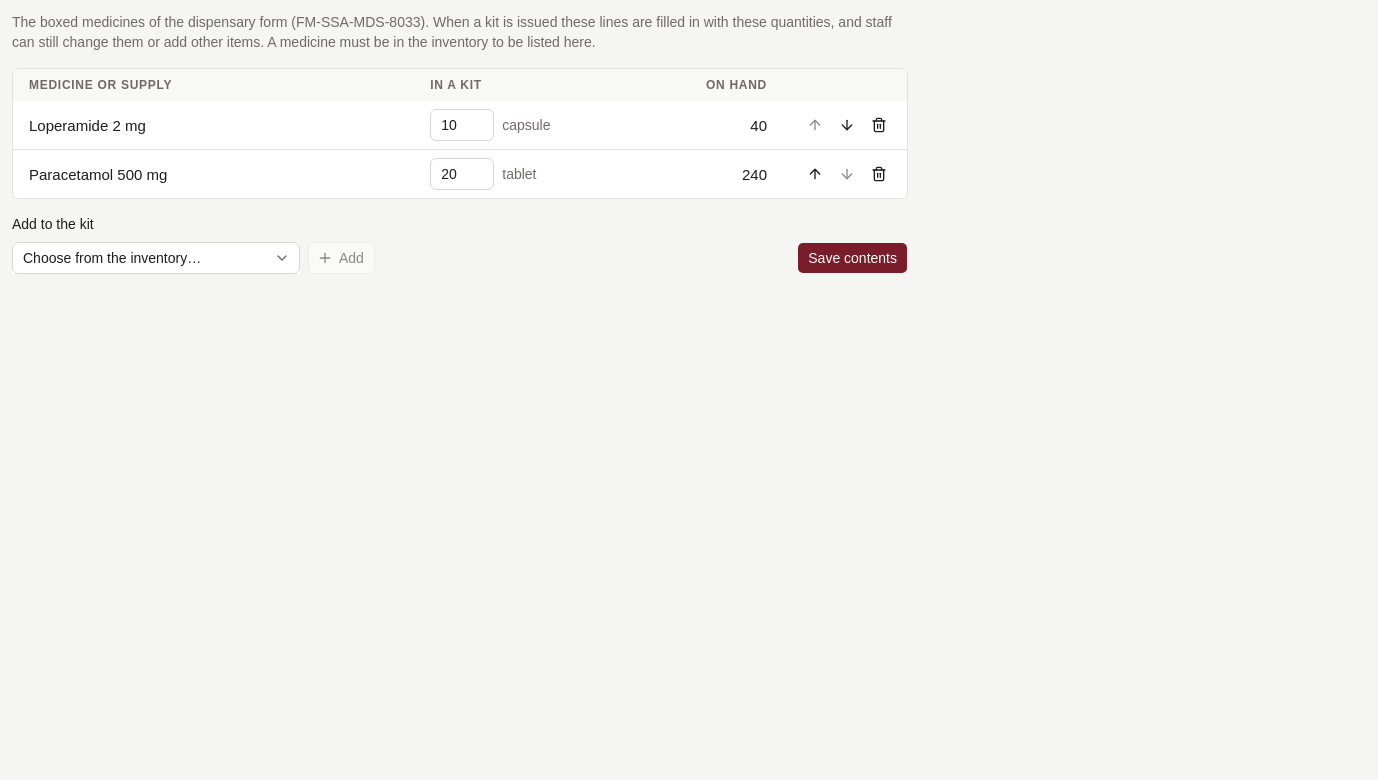
Test: the coordinator changes, reorders, adds and removes lines, then saves
Replace the text in the field named "How many Paracetamol 500 mg" with "30" at (462, 174), box left=430, top=158, right=494, bottom=190
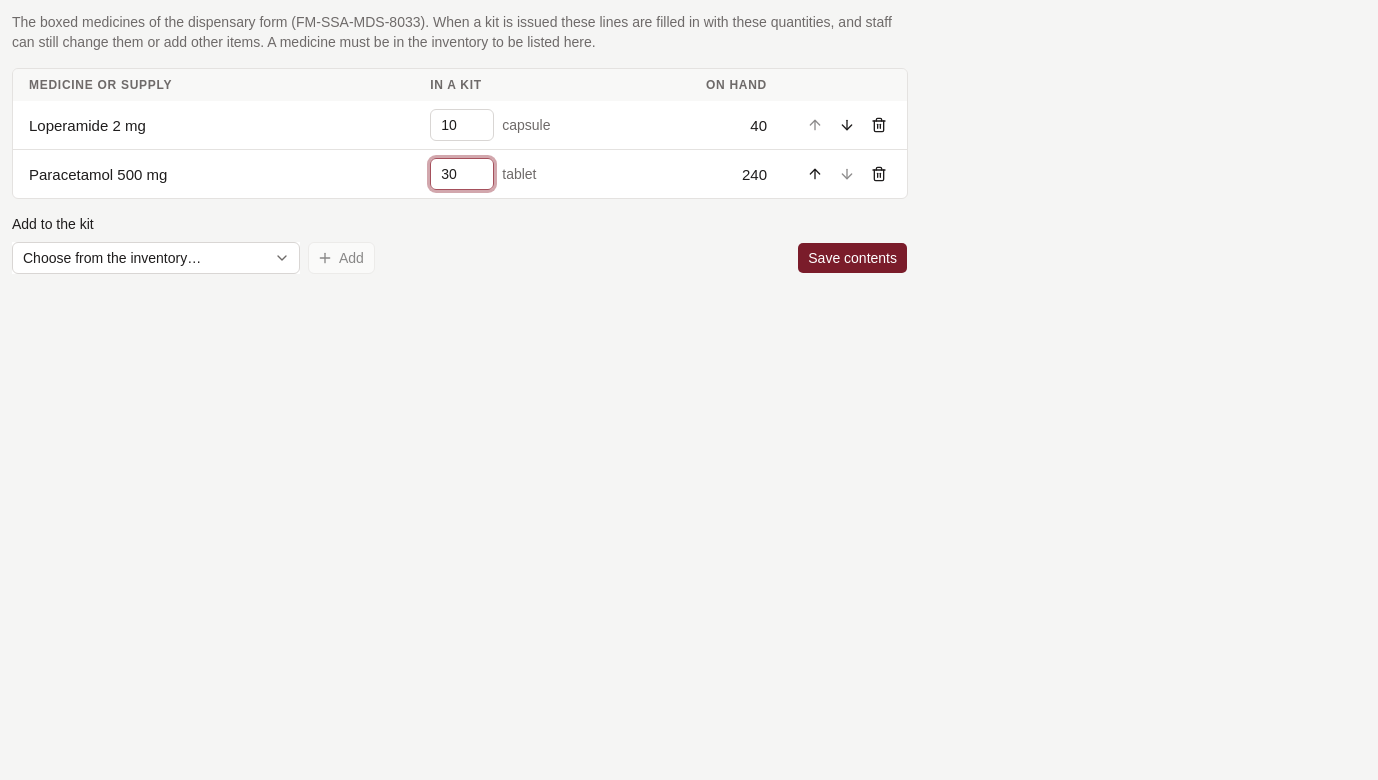
Click the button named "Move Paracetamol 500 mg up" at (815, 174), box left=799, top=158, right=831, bottom=190
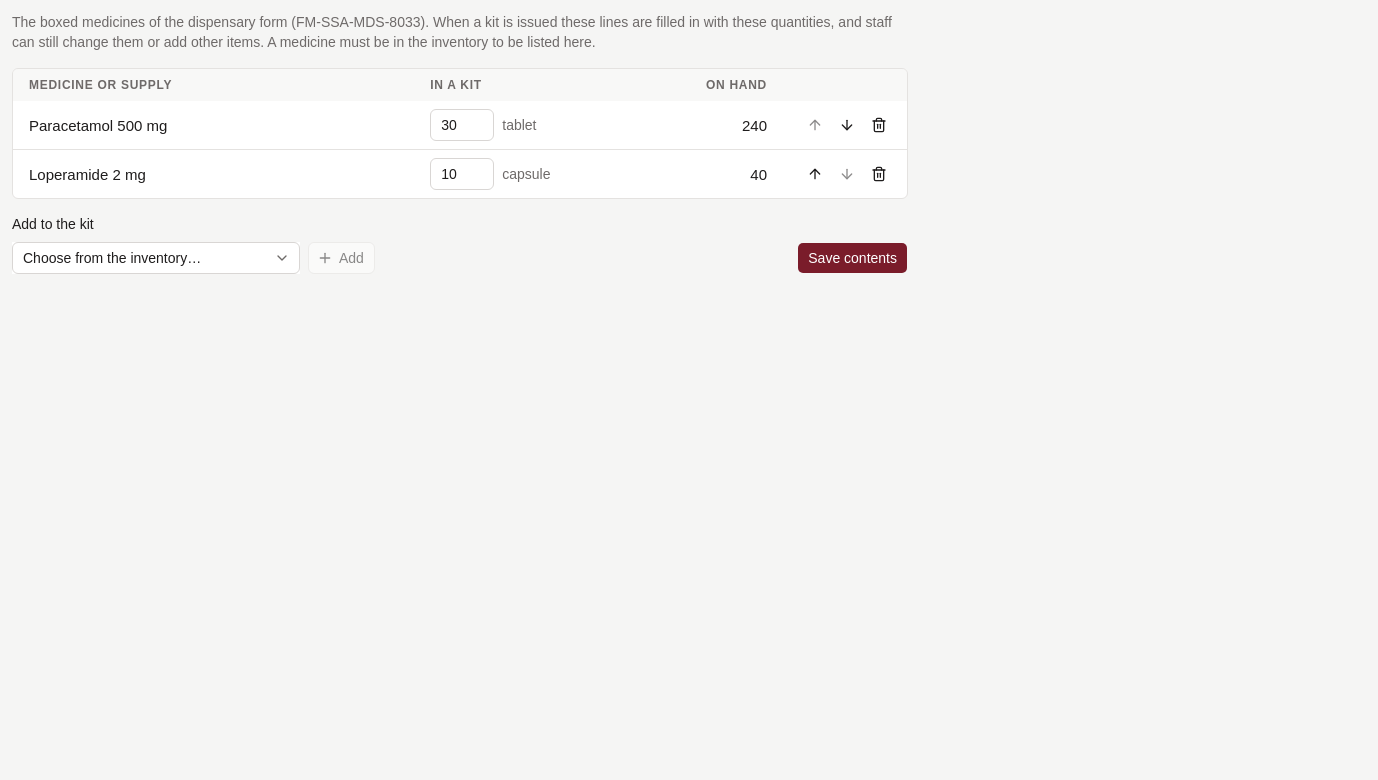
Select "Loratadine 10 mg" in the dropdown labelled "Add to the kit" at (156, 258), box left=12, top=242, right=300, bottom=274
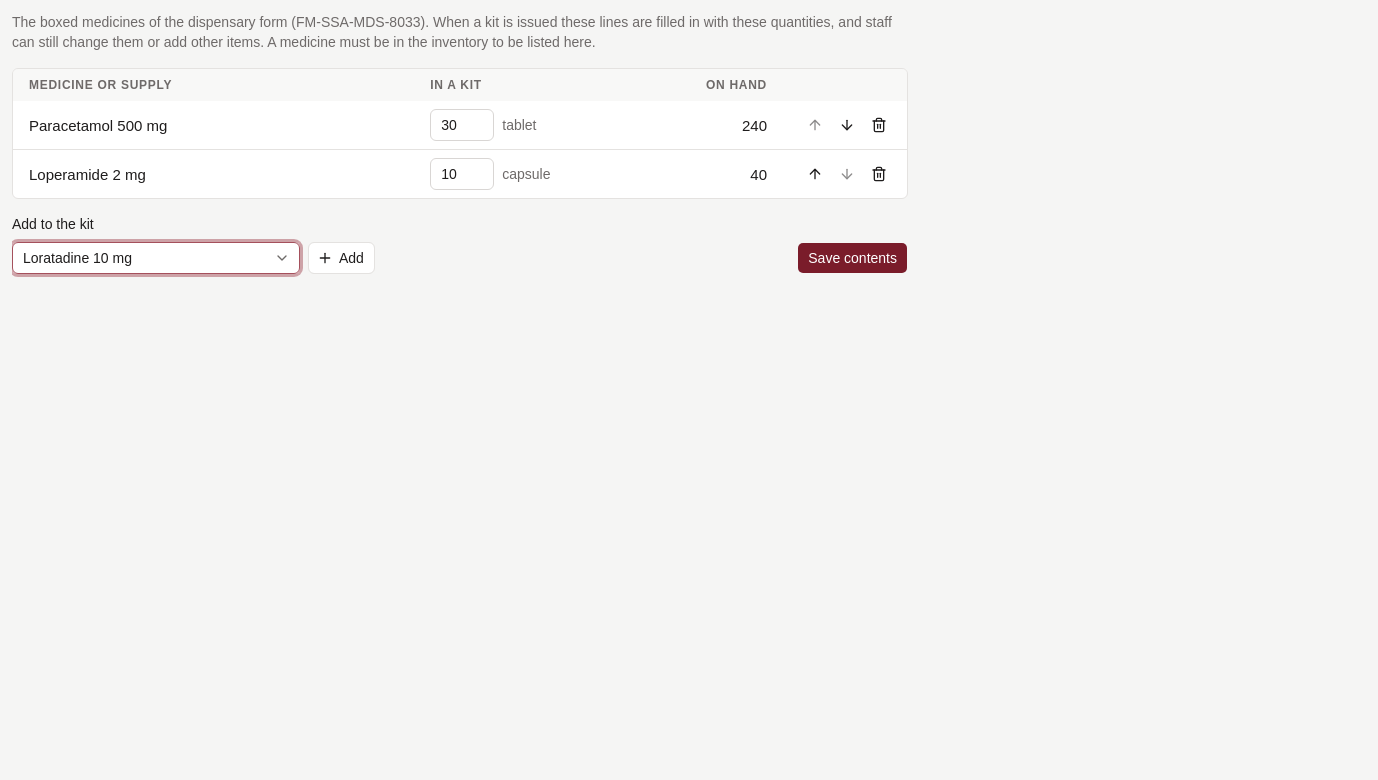
Click the button "Add" at (341, 258), box left=308, top=242, right=375, bottom=274
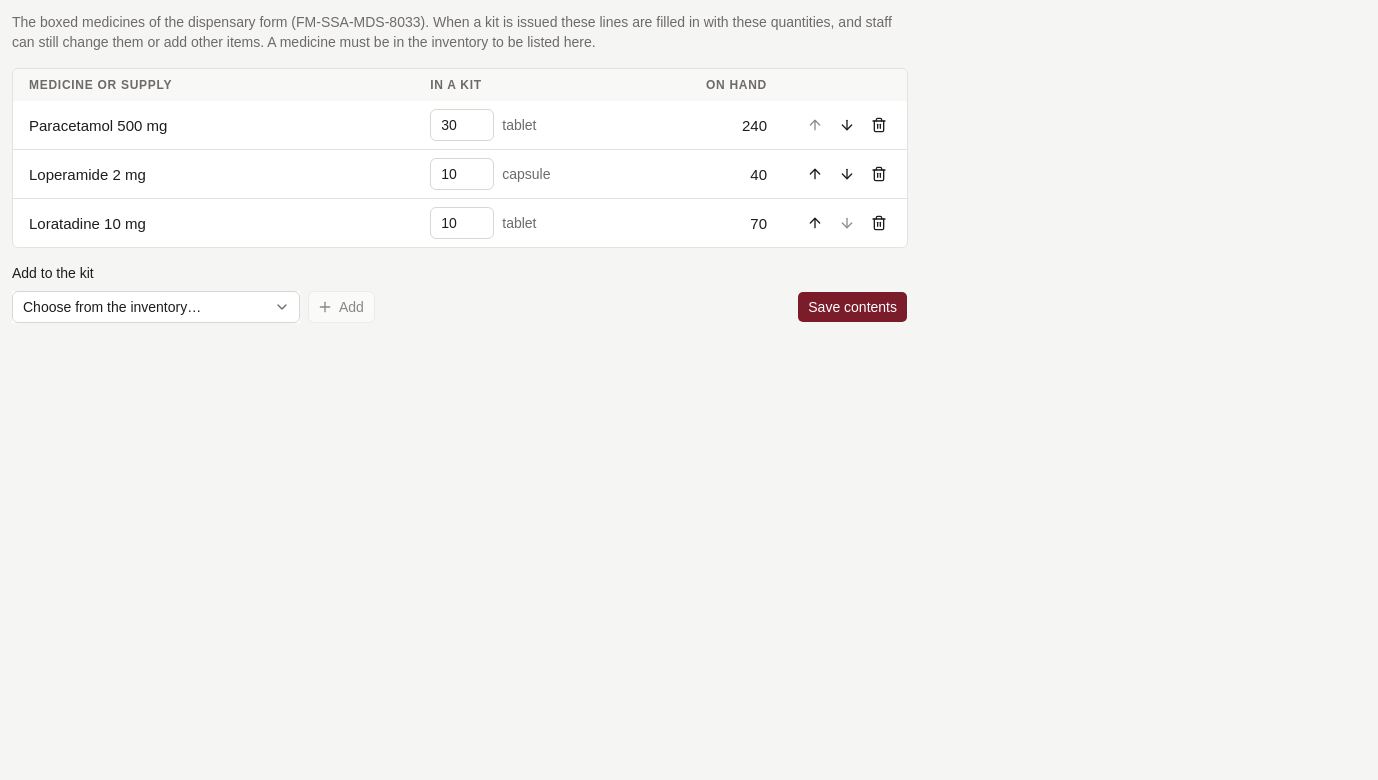
Click the button named "Remove Loperamide 2 mg" at (879, 174), box left=863, top=158, right=895, bottom=190
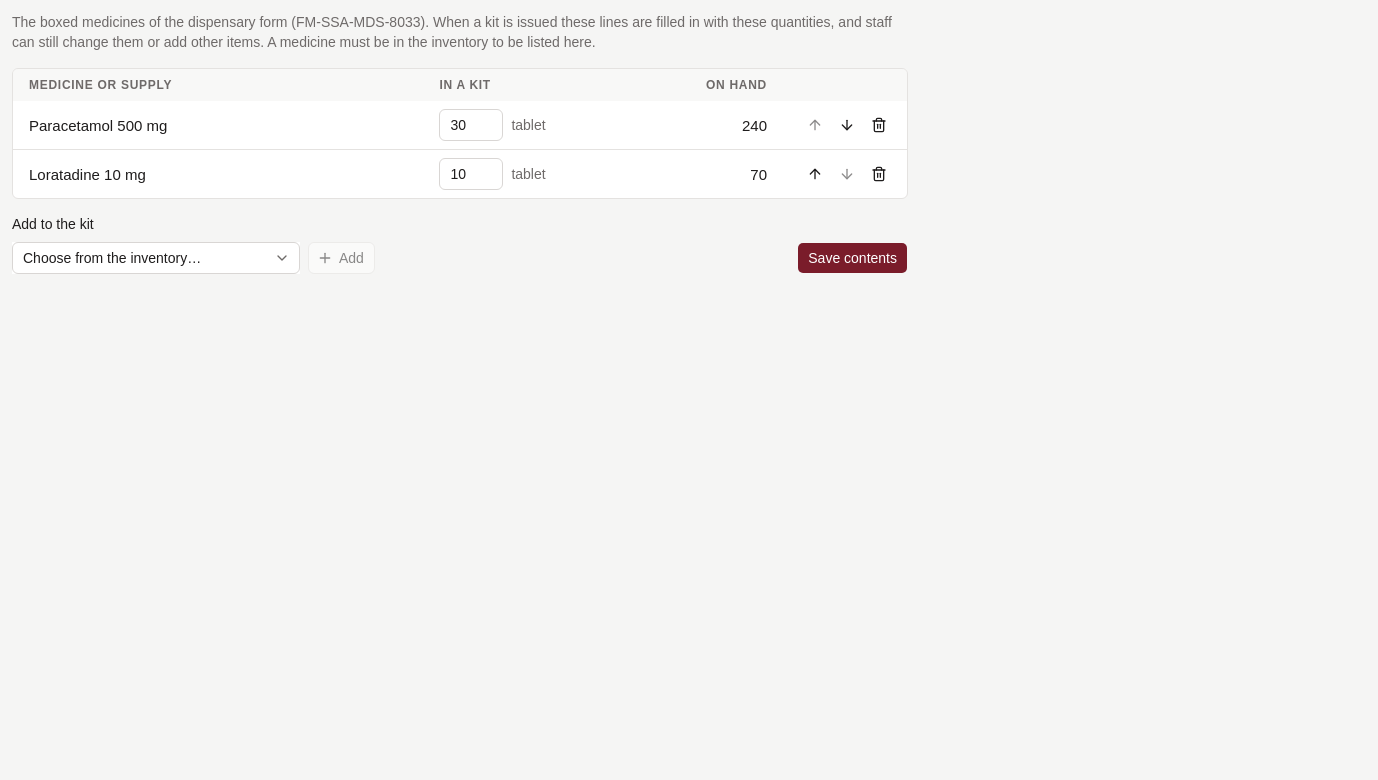
Click the button "Save contents" at (853, 258), box left=797, top=242, right=908, bottom=274
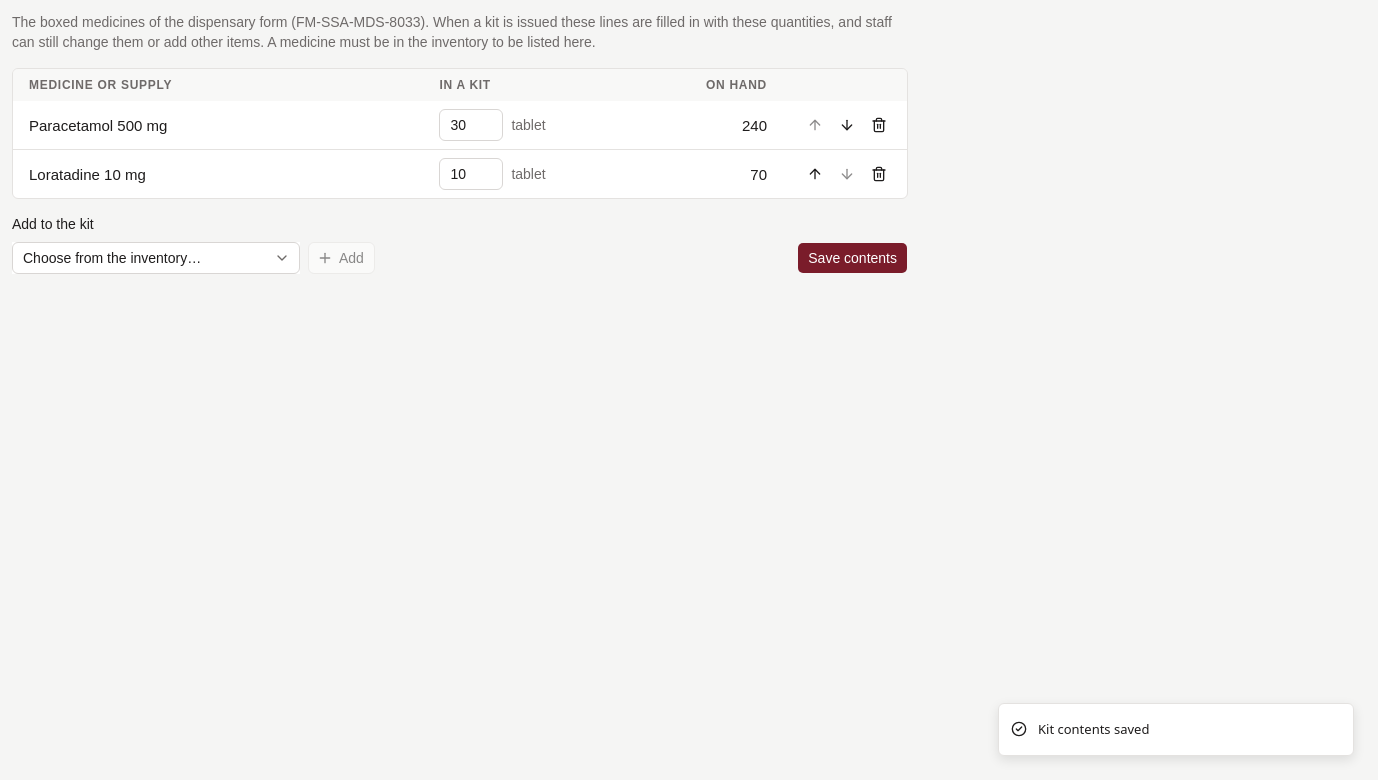
Result: the text "Kit contents saved" is shown at left=1038, top=720, right=1149, bottom=739
